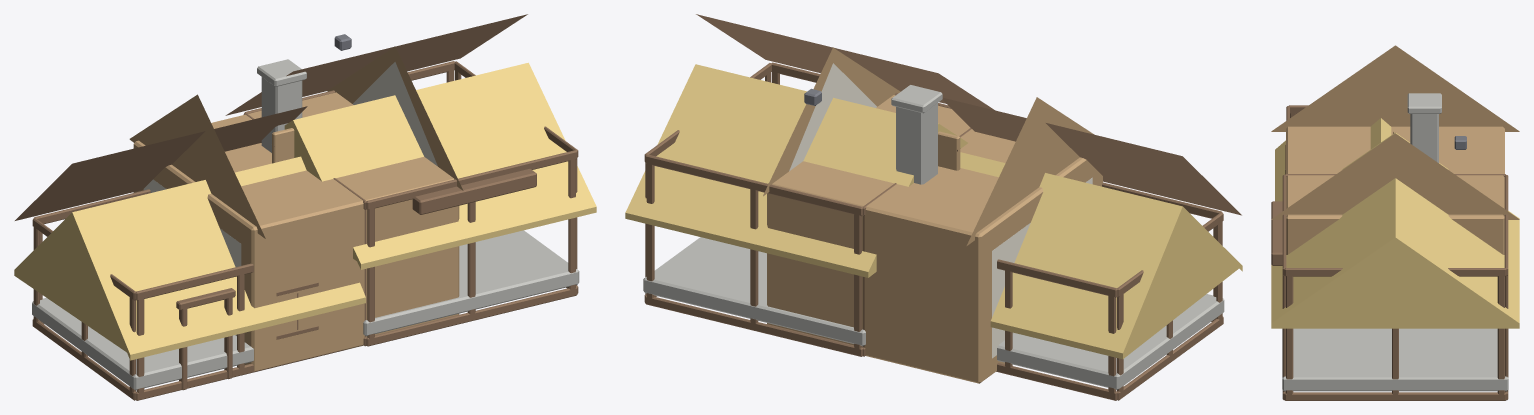
The model's file is town_farmhouse_and_barn.glb.
3 renders of one model, left to right at view 1: azimuth 30°, elevation 25°; view 2: azimuth 150°, elevation 25°; view 3: azimuth 270°, elevation 25°, orthographic. The views are drawn at different scales.
Parts seen in each view (by area): view 1: world; view 2: world; view 3: world.
Boxes of the visible parts, x1,y1,x2,y2 form: world: (14,14,596,400); world: (625,14,1242,400); world: (1271,45,1519,400).
Size of the model in its own units: 2 by 0.9641 by 1.02.
